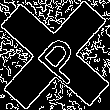P_NW: (24, 24, 86, 86)
